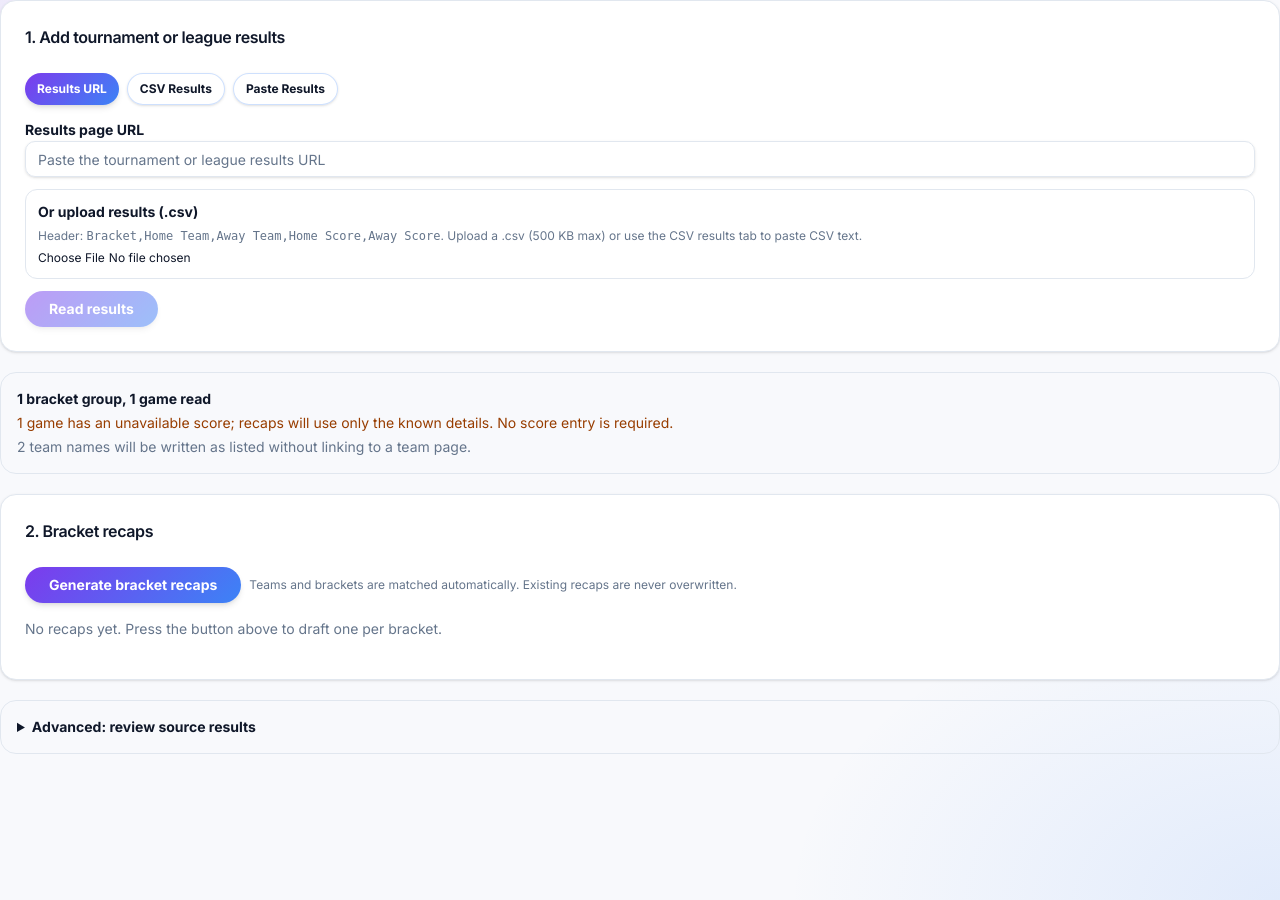
Test: ResultsConsole review gaps › converts ISO as-of to local input and is read-only once confirmed
Click the heading "Advanced: review source results": point(144, 726) [32,718,256,735]
(page scrolled)
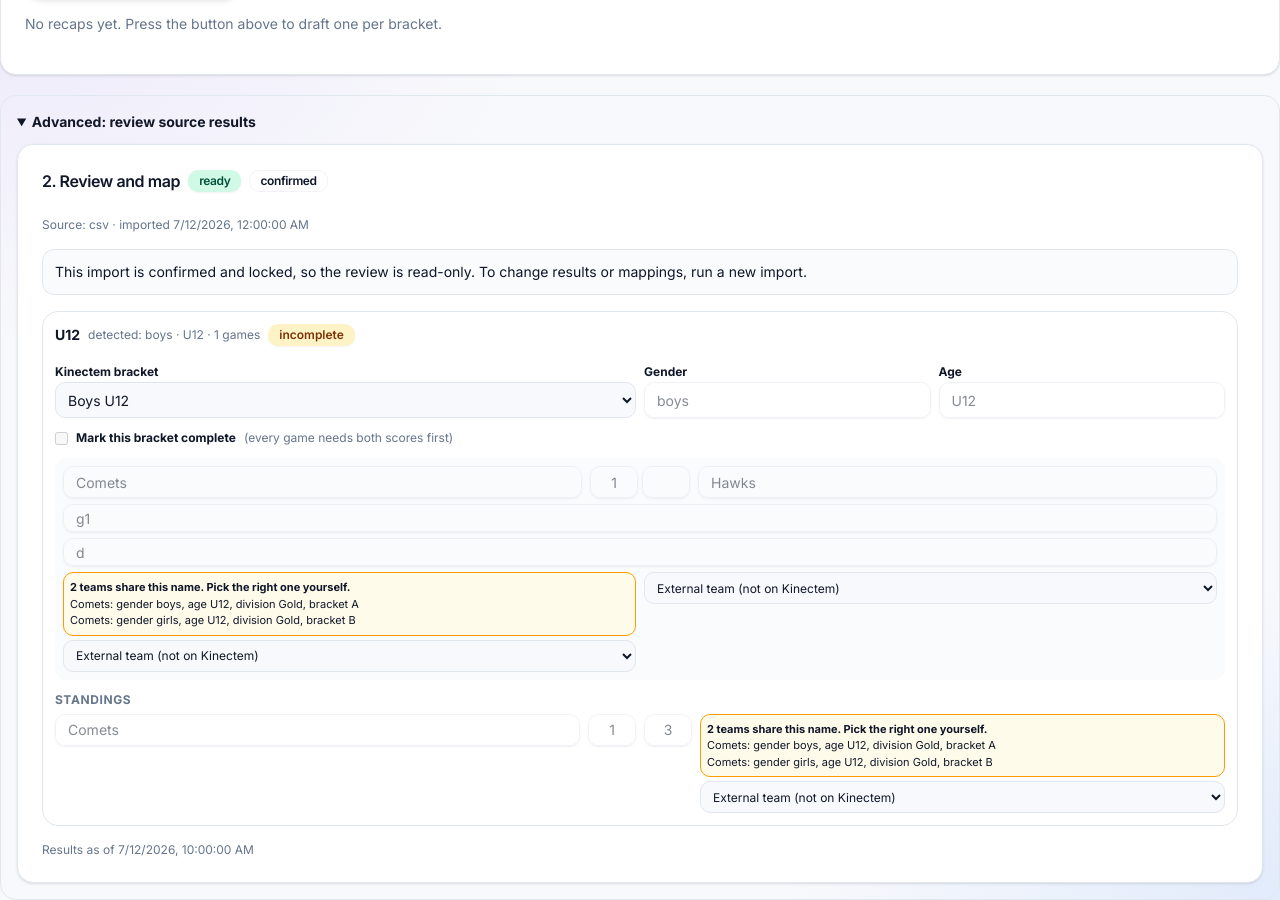
Check: the text with test id "text-readonly-note" shows "new import", box [55,263,807,280]
Check: the element with test id "fieldset-review" is disabled, box [42,311,1238,826]
